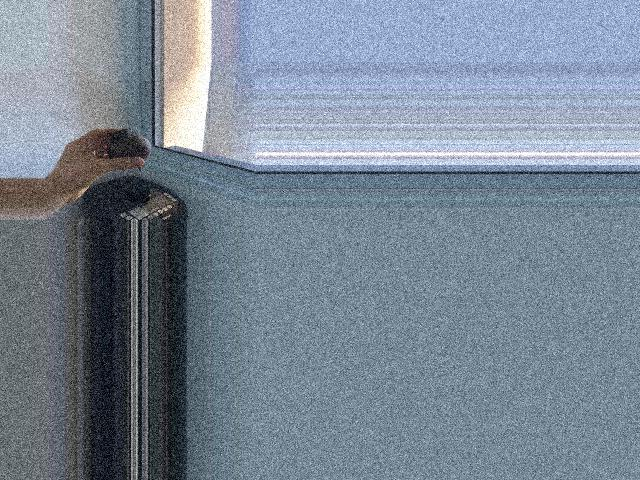beet: (102, 129, 151, 172)
